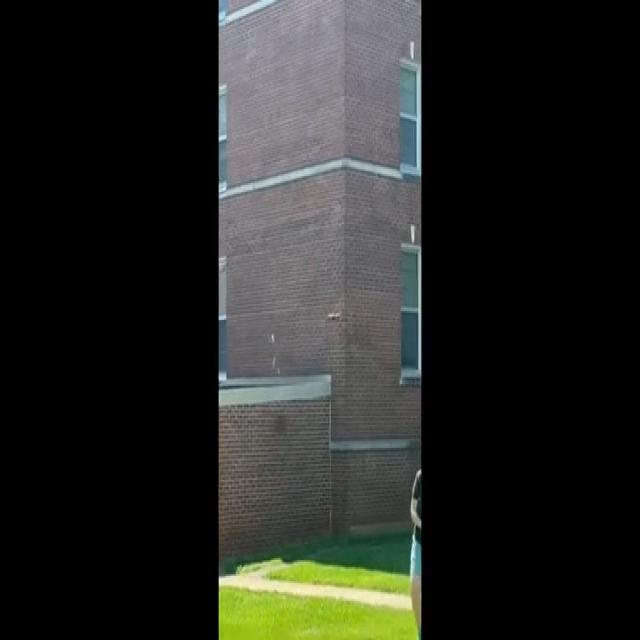drone: (321, 303, 345, 325)
